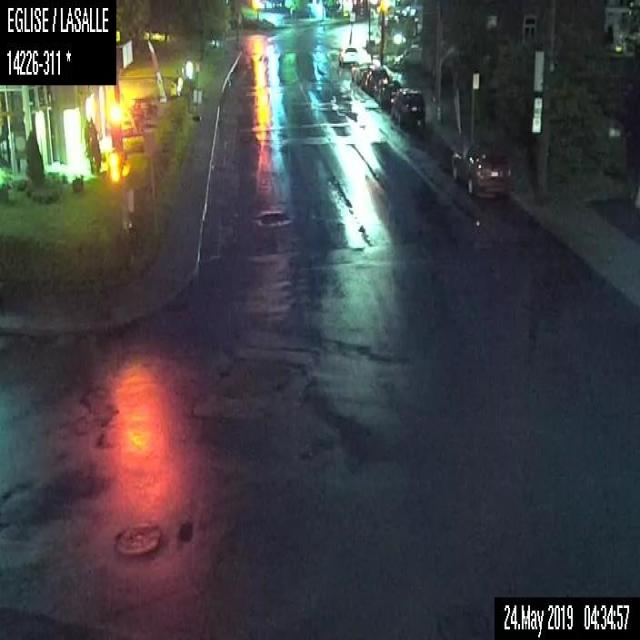vehicle: (450, 144, 511, 197), (390, 88, 425, 126), (374, 75, 402, 110), (348, 56, 371, 84), (337, 42, 358, 68)
